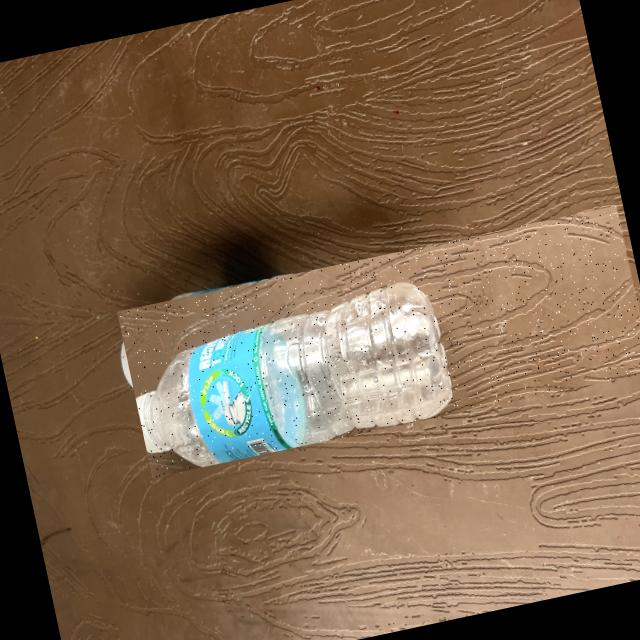REJECT: (117, 203, 640, 476)
